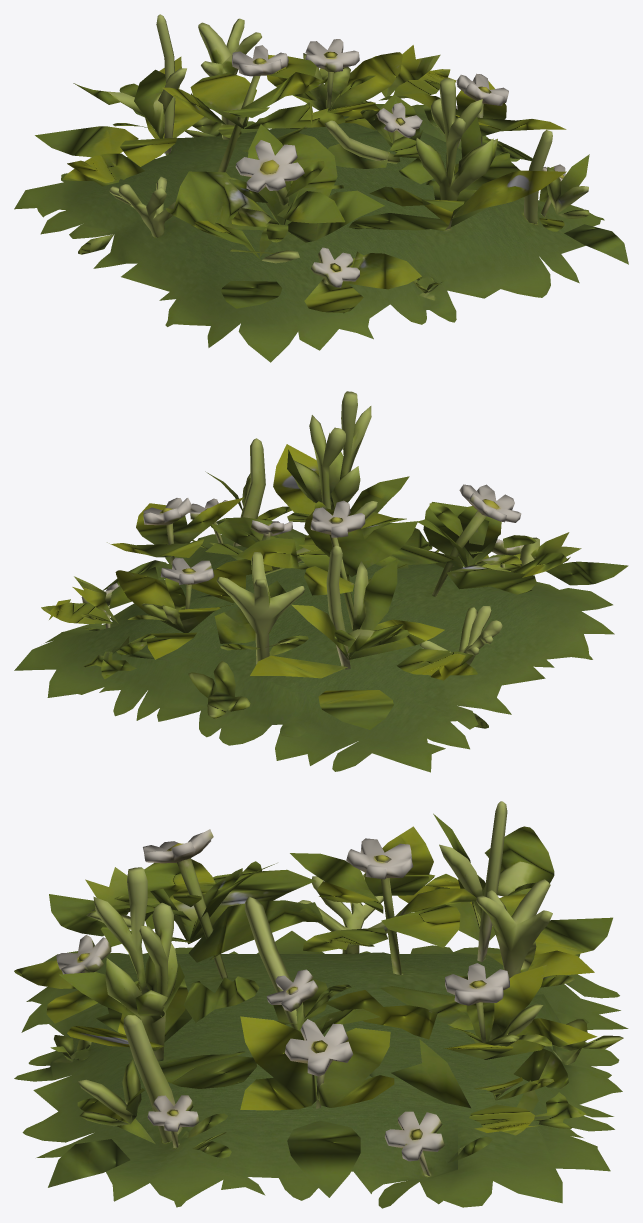
3 renders of one model, top to bottom at view 1: azimuth 30°, elevation 25°; view 2: azimuth 150°, elevation 25°; view 3: azimuth 270°, elevation 25°, orthographic. The views are drawn at different scales.
Visible parts, largest first — view 1: tripo_node_d8b75e76; view 2: tripo_node_d8b75e76; view 3: tripo_node_d8b75e76.
Boxes of the visible parts, x1=… form: tripo_node_d8b75e76: x1=14, y1=14, x2=628, y2=362; tripo_node_d8b75e76: x1=14, y1=391, x2=628, y2=772; tripo_node_d8b75e76: x1=14, y1=801, x2=628, y2=1208.
Bounding box in the file's own units: 0.998 × 0.4434 × 0.998.
1 material, 1 textured.
